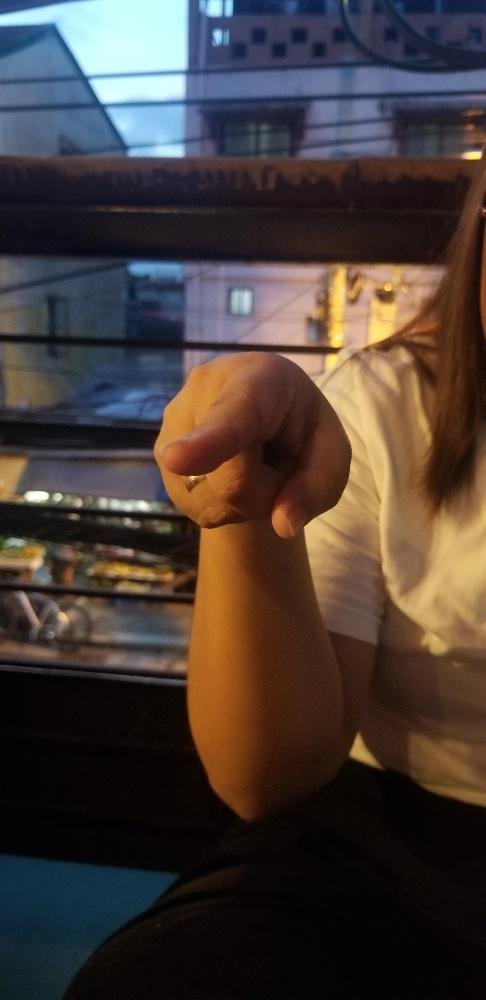z: (152, 346, 353, 547)
